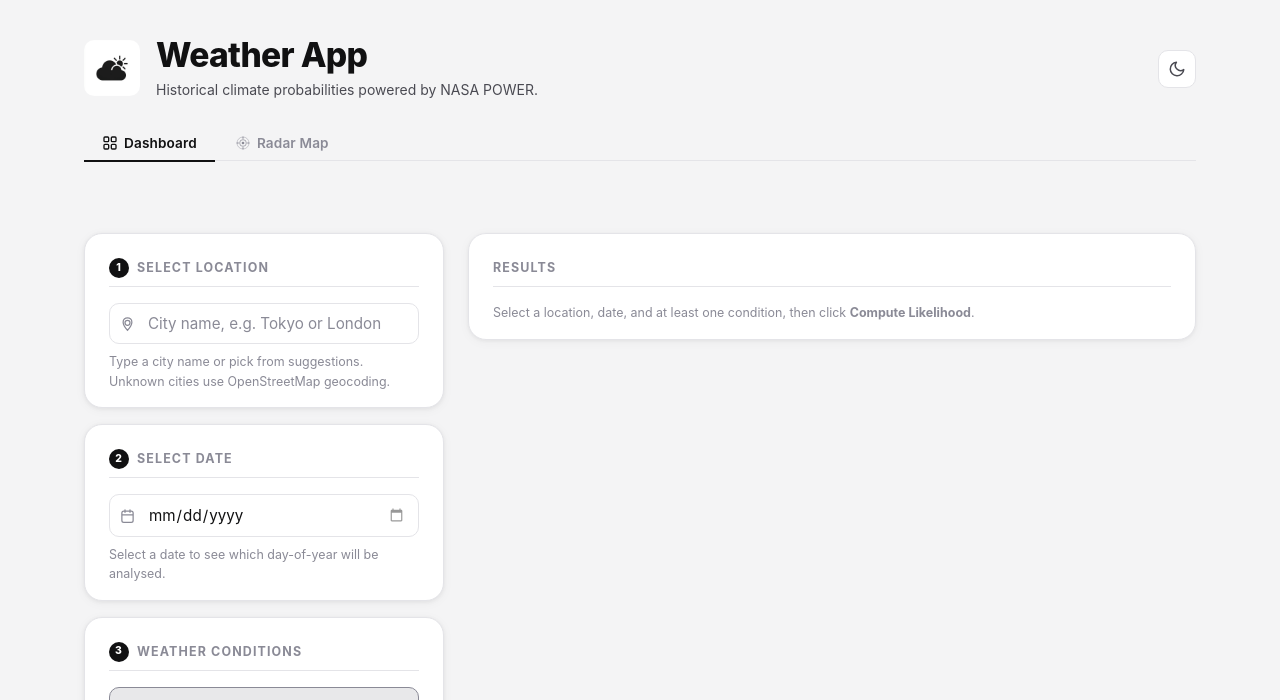
App › switches to radar map tab
Click the tab "Radar Map" at (282, 144), box [217,126,347,162]
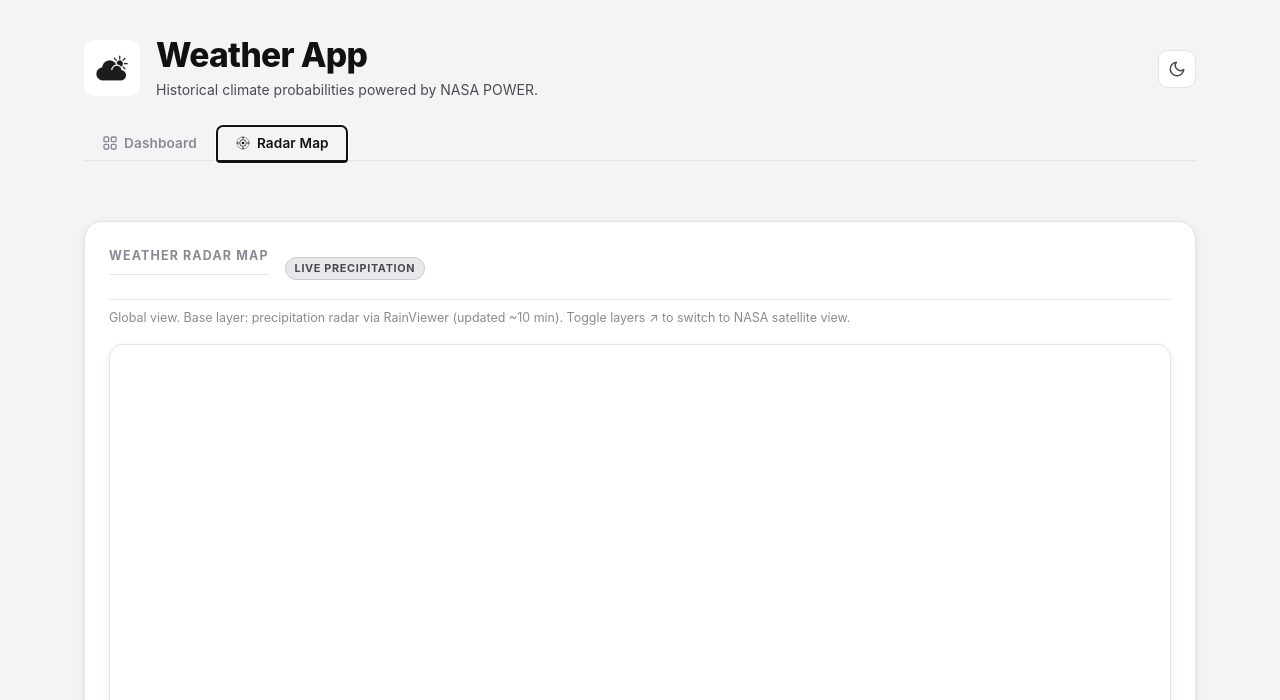
Expected: the heading "Weather Radar Map" is shown, [109,246,269,275]
